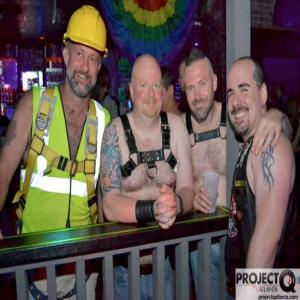none: (226, 55, 271, 138), (131, 53, 166, 122), (185, 49, 217, 122), (89, 60, 112, 102), (159, 64, 177, 111)
yellow: (63, 7, 112, 96)
